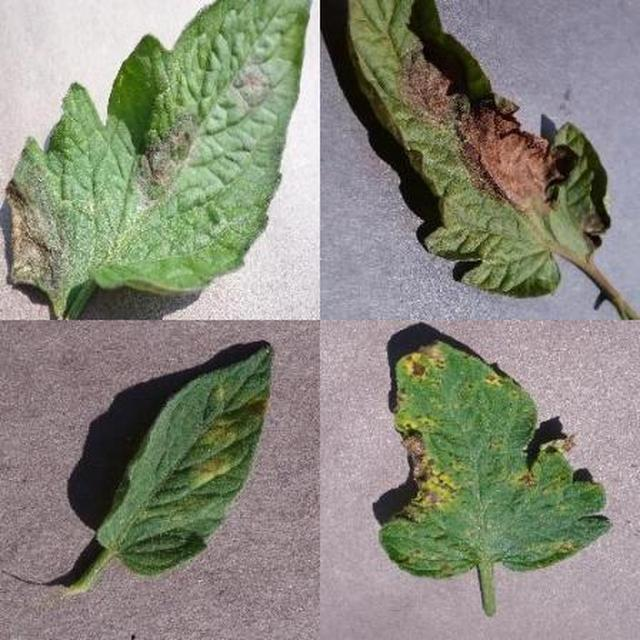Late Blight Leaf: (224, 212, 640, 640)
